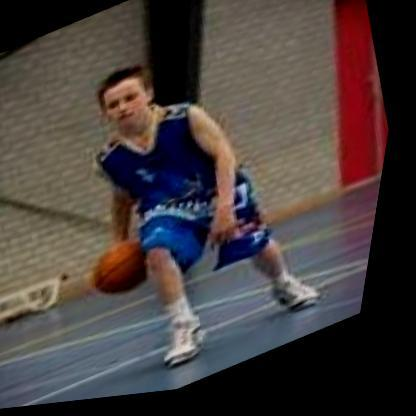basketball: (84, 214, 182, 318)
